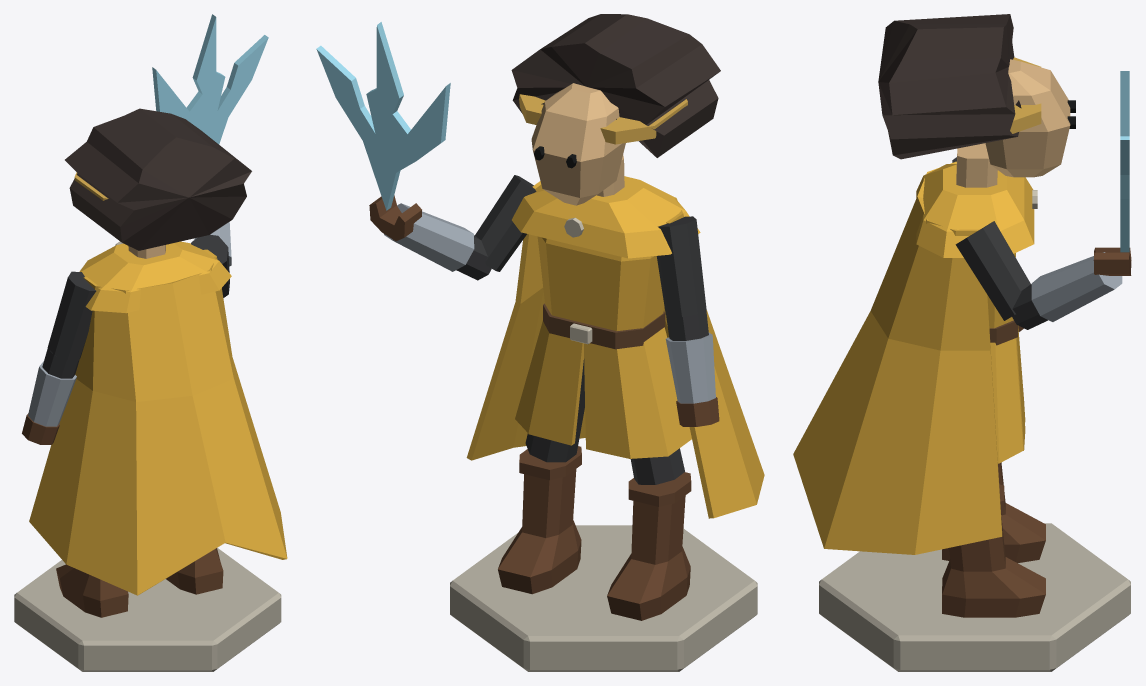
File: human_stormcaller_t5.glb
The picture shows the model from 3 angles, left to right: view 1: azimuth 30°, elevation 25°; view 2: azimuth 150°, elevation 25°; view 3: azimuth 270°, elevation 25°; orthographic projection. The views are drawn at different scales.
Parts seen in each view (by area): view 1: Storm_Long_Two_Point_Cape, Foundation_Hexagonal_Stone, storm_one_connected_swept_back_hair, Continuous_Shoulder_Mantle, storm_one_three_prong_lightning, left_upper_sleeve, Boot_-1, left_bracer, Boot_1, right_upper_sleeve, left_glove_mitten, left_lower_sleeve; view 2: Foundation_Hexagonal_Stone, storm_one_connected_swept_back_hair, Storm_Long_Two_Point_Cape, Continuous_Tunic_Bodice, storm_one_three_prong_lightning, Continuous_Shoulder_Mantle, Angular_Face, Continuous_Split_Tunic_Skirt, Boot_-1, Boot_1, Split_Tunic_Front_1, Split_Tunic_Front_-1 (+14 smaller); view 3: Storm_Long_Two_Point_Cape, Foundation_Hexagonal_Stone, storm_one_connected_swept_back_hair, Continuous_Shoulder_Mantle, Boot_1, Angular_Face, right_upper_sleeve, right_bracer, Continuous_Split_Tunic_Skirt, Boot_-1, storm_one_three_prong_lightning, Small_Neck (+3 smaller).
Boxes of the visible parts, x1,y1,x2,y2 form: Storm_Long_Two_Point_Cape: (29, 249, 287, 595); Foundation_Hexagonal_Stone: (14, 547, 281, 671); storm_one_connected_swept_back_hair: (65, 108, 251, 250); Continuous_Shoulder_Mantle: (79, 241, 231, 313); storm_one_three_prong_lightning: (152, 14, 268, 144); left_upper_sleeve: (47, 271, 96, 360); Boot_-1: (56, 564, 128, 617); left_bracer: (28, 361, 76, 426); Boot_1: (166, 548, 223, 594); right_upper_sleeve: (191, 234, 229, 297); left_glove_mitten: (22, 413, 59, 444); left_lower_sleeve: (42, 348, 79, 378); Foundation_Hexagonal_Stone: (450, 525, 757, 671); storm_one_connected_swept_back_hair: (511, 14, 720, 157); Storm_Long_Two_Point_Cape: (466, 181, 764, 518); Continuous_Tunic_Bodice: (537, 236, 664, 331); storm_one_three_prong_lightning: (316, 22, 450, 210); Continuous_Shoulder_Mantle: (512, 176, 700, 258); Angular_Face: (531, 83, 625, 205); Continuous_Split_Tunic_Skirt: (515, 321, 691, 458); Boot_-1: (607, 495, 690, 620); Boot_1: (498, 469, 581, 594); Split_Tunic_Front_1: (528, 333, 583, 445); Split_Tunic_Front_-1: (584, 343, 630, 458); Storm_Long_Two_Point_Cape: (793, 161, 1002, 554); Foundation_Hexagonal_Stone: (819, 523, 1130, 671); storm_one_connected_swept_back_hair: (878, 14, 1021, 159); Continuous_Shoulder_Mantle: (916, 164, 1034, 257); Boot_1: (942, 513, 1045, 617); Angular_Face: (985, 59, 1070, 177); right_upper_sleeve: (955, 221, 1030, 320); right_bracer: (1031, 252, 1122, 321); Continuous_Split_Tunic_Skirt: (990, 338, 1023, 463); Boot_-1: (942, 462, 1045, 563); storm_one_three_prong_lightning: (1120, 71, 1129, 252); Small_Neck: (956, 143, 997, 187).
Size of the model in its own units: 1.18 by 2.03 by 1.01.
